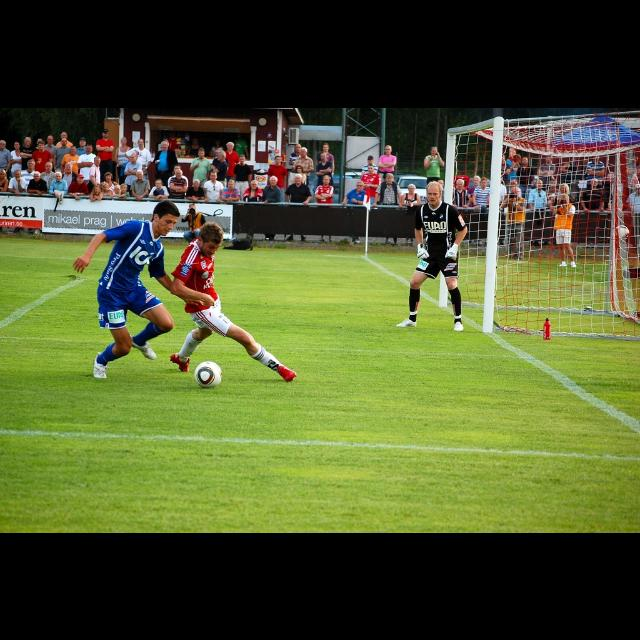Football: (194, 358, 222, 388)
